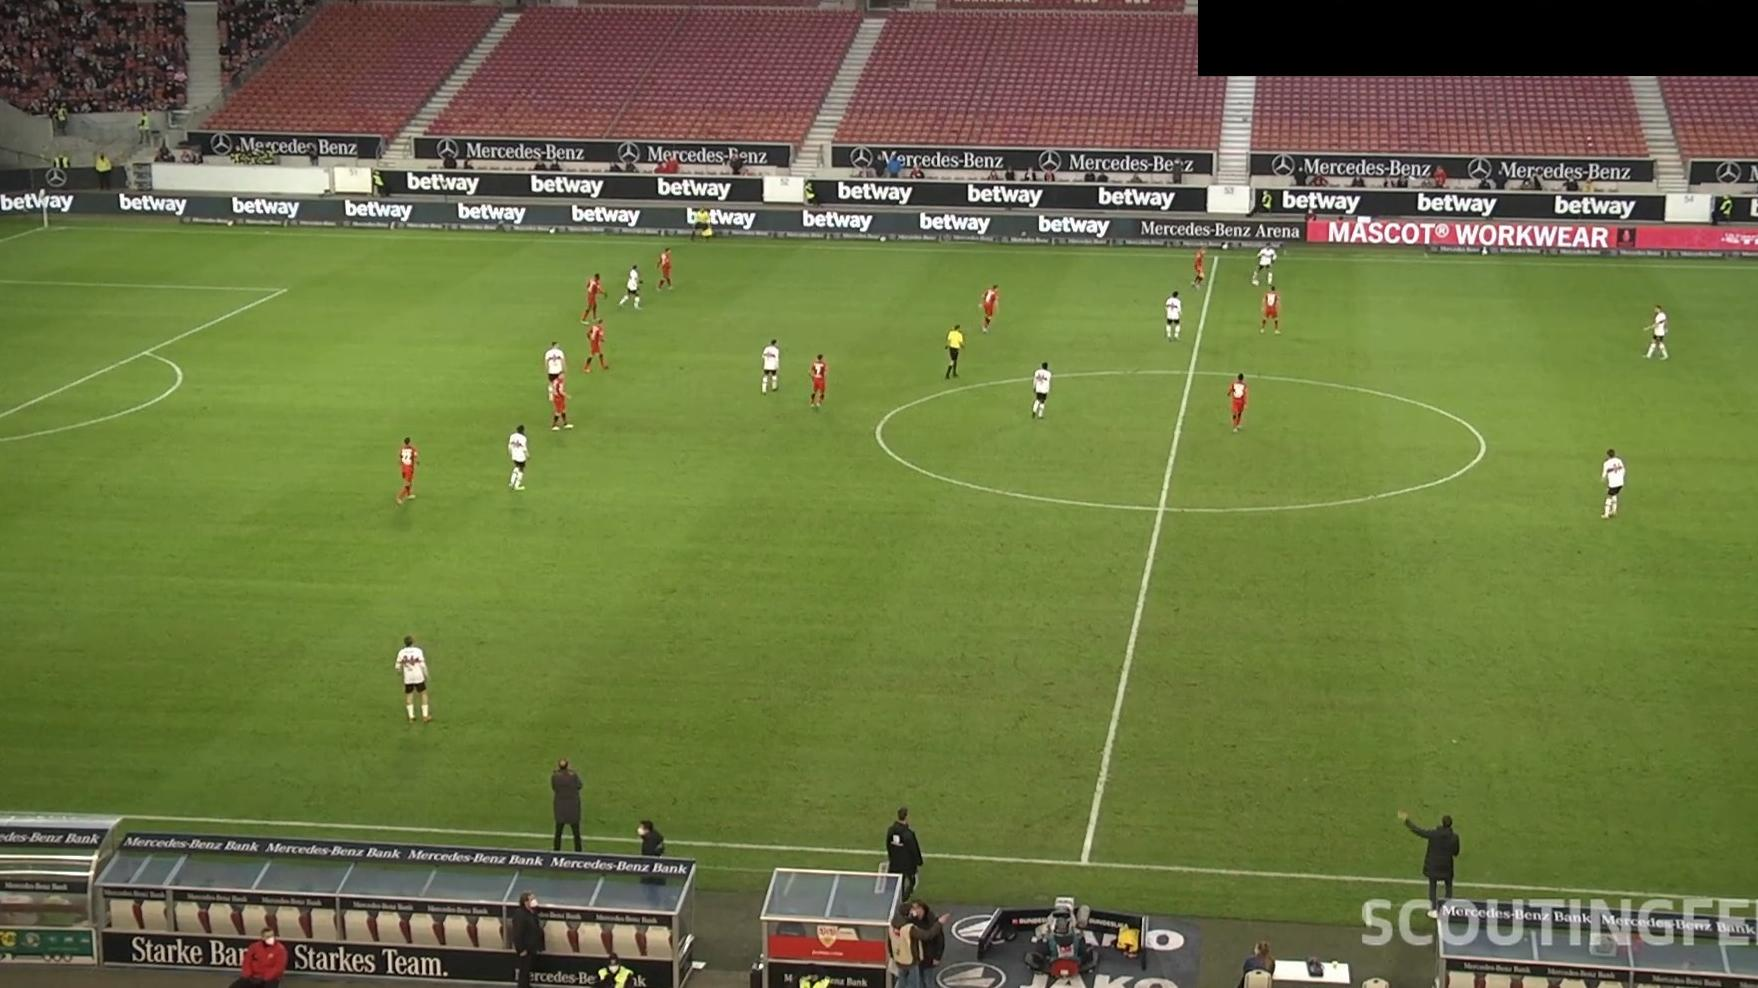ball: (1251, 277, 1262, 287)
